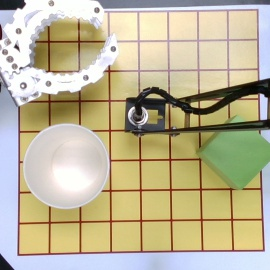cup: (24, 124, 111, 211)
